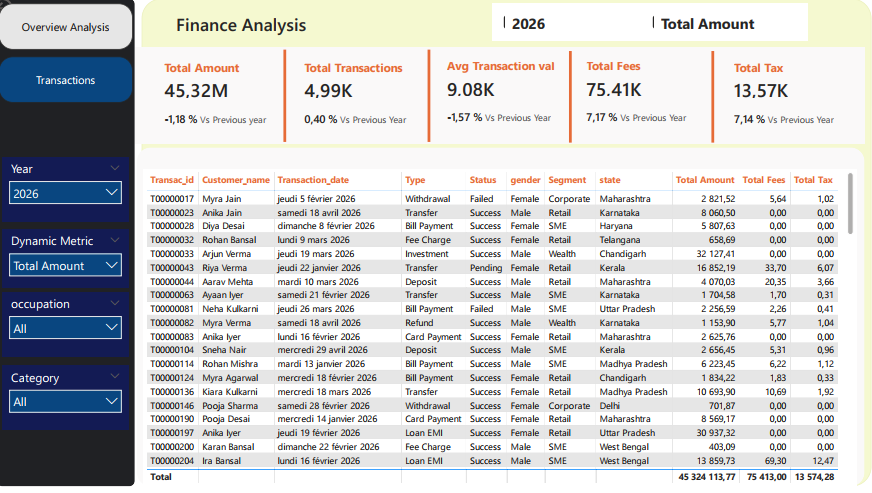

This screenshot's page, from the dashboard's own definition file:
{"tool":"powerbi","page":{"name":"Transactions","canvas":[1280,720],"ordinal":1},"visuals":[{"type":"shape","box":[222.4,5.9,1058,708.3],"z":0},{"type":"shape","box":[212.2,76.1,1058,140],"z":1000},{"type":"shape","box":[11.7,5.9,200.5,708.3],"z":2000},{"type":"cardVisual","fields":{"Data":["finance_transactions.Dashboard title"]},"box":[212.2,5.9,302.9,70.2],"z":3000},{"type":"cardVisual","fields":{"Data":["finance_transactions.Total Amount"]},"box":[235.6,82,190,133.2],"z":5000},{"type":"cardVisual","fields":{"Data":["finance_transactions.Avg Transaction val"]},"box":[646,80.1,193,133.2],"z":6000},{"type":"shape","box":[406.8,80.5,45.4,133.2],"z":7000},{"type":"shape","box":[616.1,80.5,45.4,133.2],"z":8000},{"type":"shape","box":[821,82,45.4,133.2],"z":9000},{"type":"shape","box":[1027.3,82,45.4,133.2],"z":10000},{"type":"cardVisual","fields":{"Data":["finance_transactions.Total Transactions"]},"box":[439,82,192,133.2],"z":11000},{"type":"cardVisual","fields":{"Data":["finance_transactions.Total Fees"]},"box":[848,80.5,194,133.2],"z":12000},{"type":"cardVisual","fields":{"Data":["finance_transactions.Total Tax"]},"box":[1062.4,82,194.6,133.2],"z":13000},{"type":"shape","box":[215.1,222.4,1055.1,491.7],"z":14000},{"type":"cardVisual","fields":{"Data":["finance_transactions.Selected Year","finance_transactions.Selected Dynamic Metric"]},"box":[730.2,13.2,458,54.1],"z":15000},{"type":"tableEx","fields":{"Values":["finance_transactions.transaction_id","customers.Customer_name","finance_transactions.transaction_date","finance_transactions.transaction_type","finance_transactions.transaction_status","customers.gender","customers.customer_segment","customers.state","finance_transactions.Total Amount","finance_transactions.Total Fees","finance_transactions.Total Tax"]},"box":[223.9,253.2,1034.6,461],"z":16000},{"type":"actionButton","box":[0,0,100,40],"z":17000},{"type":"slicer","fields":{"Values":["Calendar Table.Year"]},"box":[20.5,235.6,182.9,93.7],"z":18000},{"type":"slicer","fields":{"Values":["Dynamic Metric.Dynamic Metric"]},"box":[20.5,341,182.9,84.9],"z":19000},{"type":"slicer","fields":{"Values":["customers.occupation"]},"box":[20.5,431.7,182.9,93.7],"z":20000},{"type":"slicer","fields":{"Values":["finance_transactions.merchant_category"]},"box":[20.5,538.5,182.9,93.7],"z":21000},{"type":"pageNavigator","box":[14.6,13.2,194.6,144.9],"z":21001}]}

Visuals, with their boxes in screenshot pixels (x1, y1, x2, y2), scaled from the page's 1280x720 canvas onto the 872x493 screenshot:
shape: (152,4,871,489)
shape: (145,52,865,148)
shape: (8,4,145,489)
cardVisual - finance_transactions.Dashboard title: (145,4,351,52)
cardVisual - finance_transactions.Total Amount: (161,56,290,147)
cardVisual - finance_transactions.Avg Transaction val: (440,55,572,146)
shape: (277,55,308,146)
shape: (420,55,451,146)
shape: (559,56,590,147)
shape: (700,56,731,147)
cardVisual - finance_transactions.Total Transactions: (299,56,430,147)
cardVisual - finance_transactions.Total Fees: (578,55,710,146)
cardVisual - finance_transactions.Total Tax: (724,56,856,147)
shape: (147,152,865,489)
cardVisual - finance_transactions.Selected Year x finance_transactions.Selected Dynamic Metric: (497,9,809,46)
tableEx - finance_transactions.transaction_id x customers.Customer_name: (153,173,857,489)
actionButton: (0,0,68,27)
slicer - Calendar Table.Year: (14,161,139,225)
slicer - Dynamic Metric.Dynamic Metric: (14,233,139,292)
slicer - customers.occupation: (14,296,139,360)
slicer - finance_transactions.merchant_category: (14,369,139,433)
pageNavigator: (10,9,143,108)
